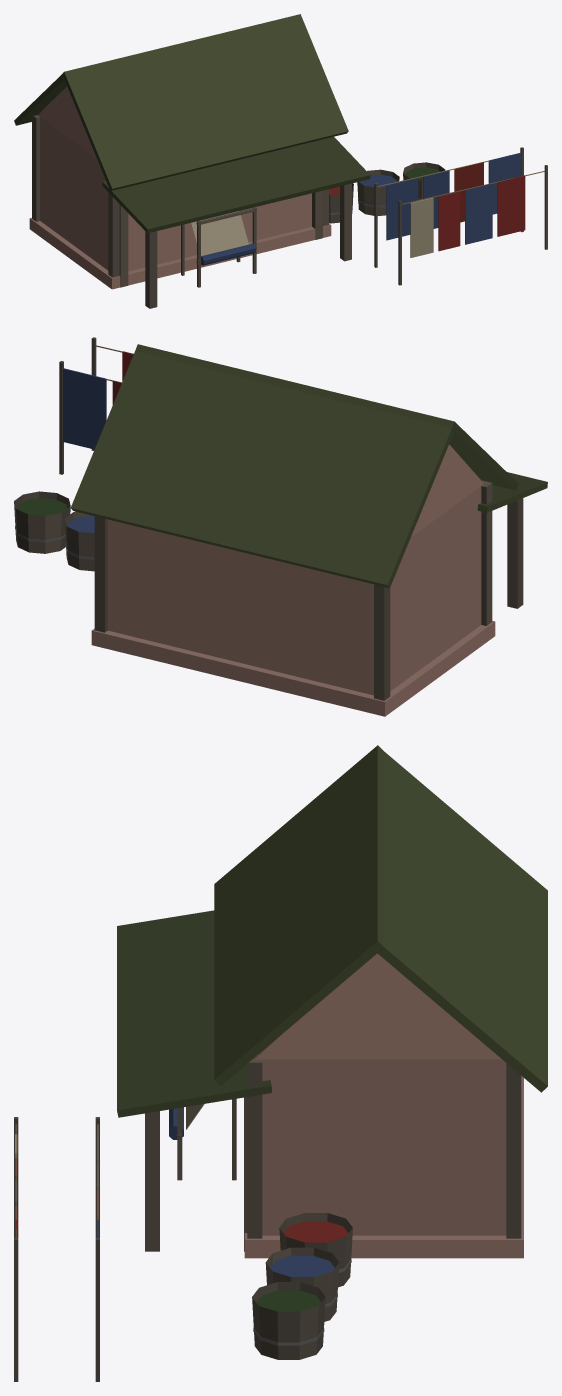
Rendered from walk_reef_weaver.glb.
3 views of the same model, one above another, from view 1: azimuth 30°, elevation 25°; view 2: azimuth 150°, elevation 25°; view 3: azimuth 270°, elevation 25° (orthographic). The views are drawn at different scales.
Visible parts, largest first — view 1: walk_reef_weaver_roof, walk_reef_weaver; view 2: walk_reef_weaver, walk_reef_weaver_roof; view 3: walk_reef_weaver_roof, walk_reef_weaver.
Part boxes in pixels (x1=…): walk_reef_weaver_roof: x1=14, y1=14, x2=370, y2=233; walk_reef_weaver: x1=29, y1=86, x2=547, y2=308; walk_reef_weaver: x1=14, y1=337, x2=523, y2=716; walk_reef_weaver_roof: x1=70, y1=344, x2=547, y2=588; walk_reef_weaver_roof: x1=117, y1=745, x2=547, y2=1117; walk_reef_weaver: x1=14, y1=953, x2=523, y2=1381.
Size of what is drawn, in the model's own units: 10.83 by 5.25 by 7.83.
2 materials, 2 textured.
